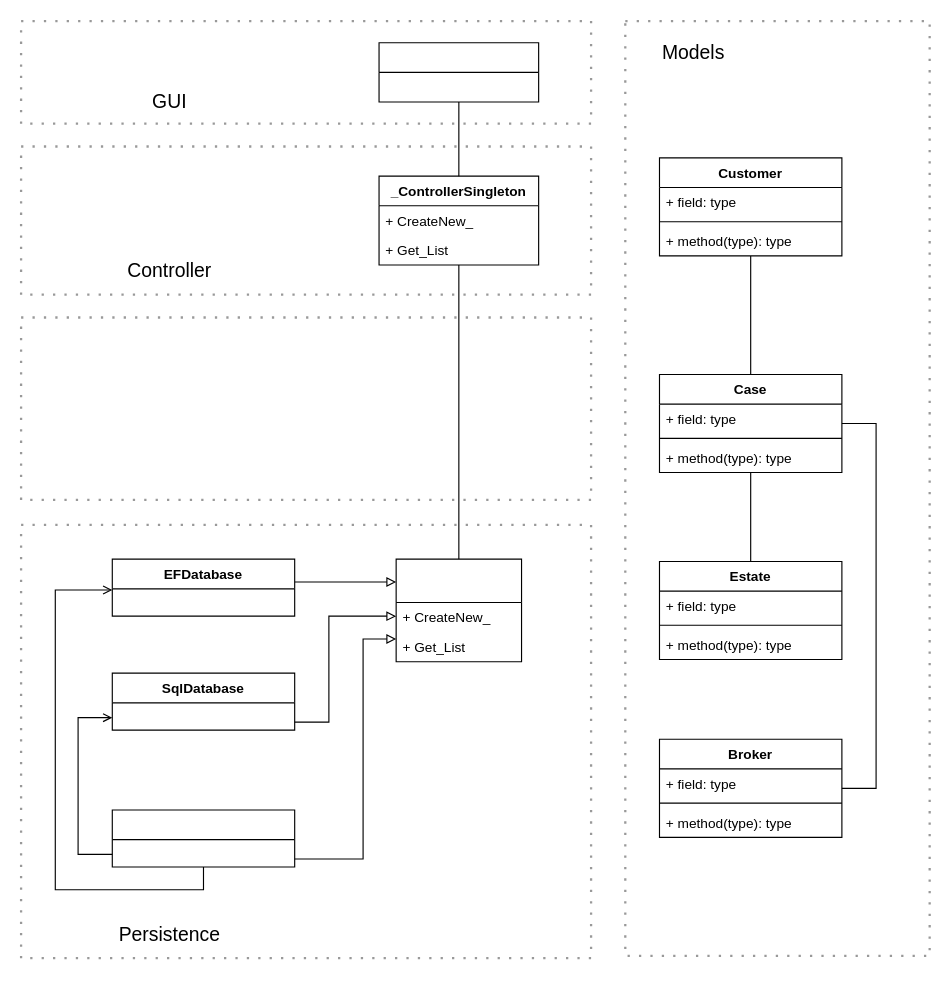
Image size: 950x985. Some labels were removed from this diagram. The box of each missing label's shape, as (x1, y1, x2, y2) in pixels:
BusinessLogicLayer: (19, 316, 592, 500)
Form1: (378, 42, 539, 102)
Proxy: (111, 809, 295, 867)
«interface» IDatabase: (395, 558, 522, 662)
